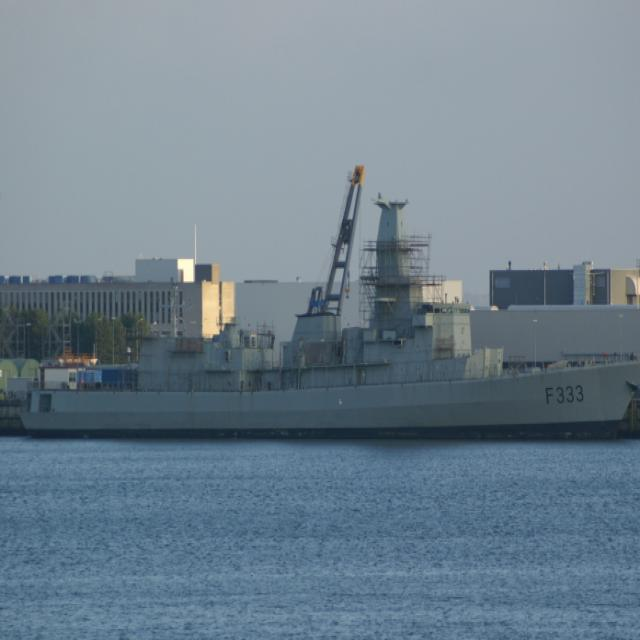Fragata: (11, 182, 640, 450)
